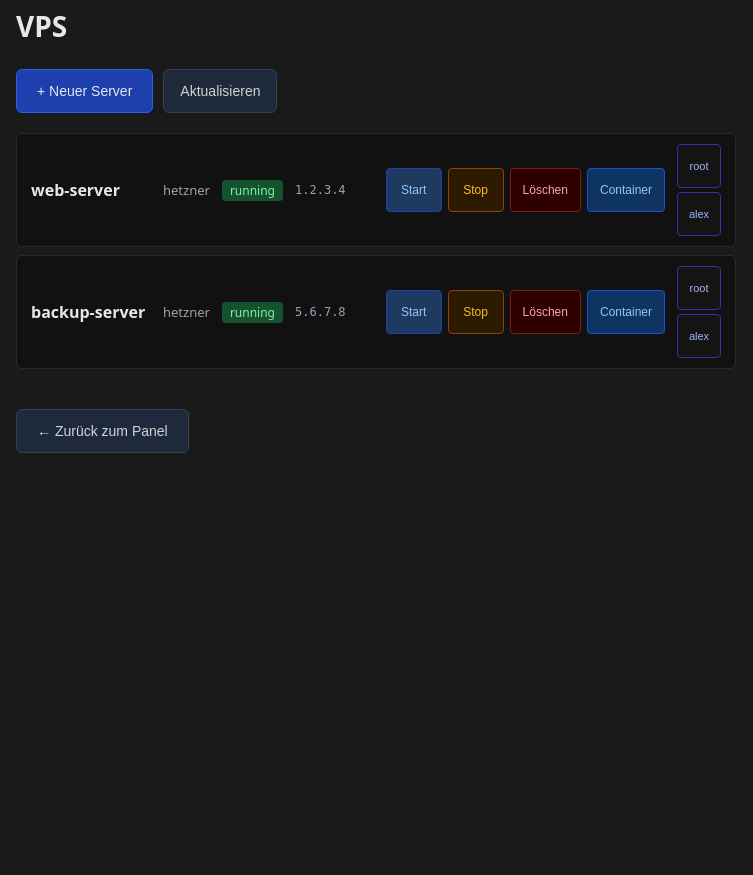
it: VpsSshTerminal — AC3: Status-Label, Schließen, mehrere unabhängige Terminals › zwei Karten dürfen gleichzeitig je ein eigenes SSH-Terminal offen haben (unabhängige WS)
This screenshot has width=753, height=875.
What coordinates should you click on to do the following:
click the button with aria-label "SSH-Terminal als root für web-server öffnen"
I would click on:
 (699, 166)
Its box is x1=677 y1=144 x2=721 y2=188.
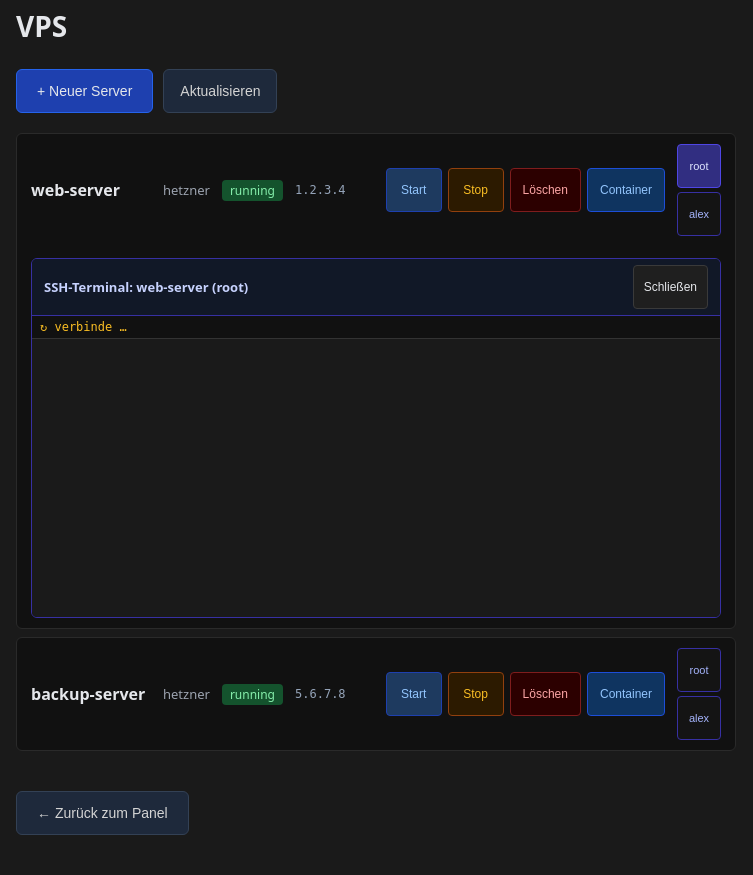
What coordinates should you click on to do the following:
click the button with aria-label "SSH-Terminal als alex für backup-server öffnen"
I would click on:
 (699, 718)
Its box is x1=677 y1=696 x2=721 y2=740.
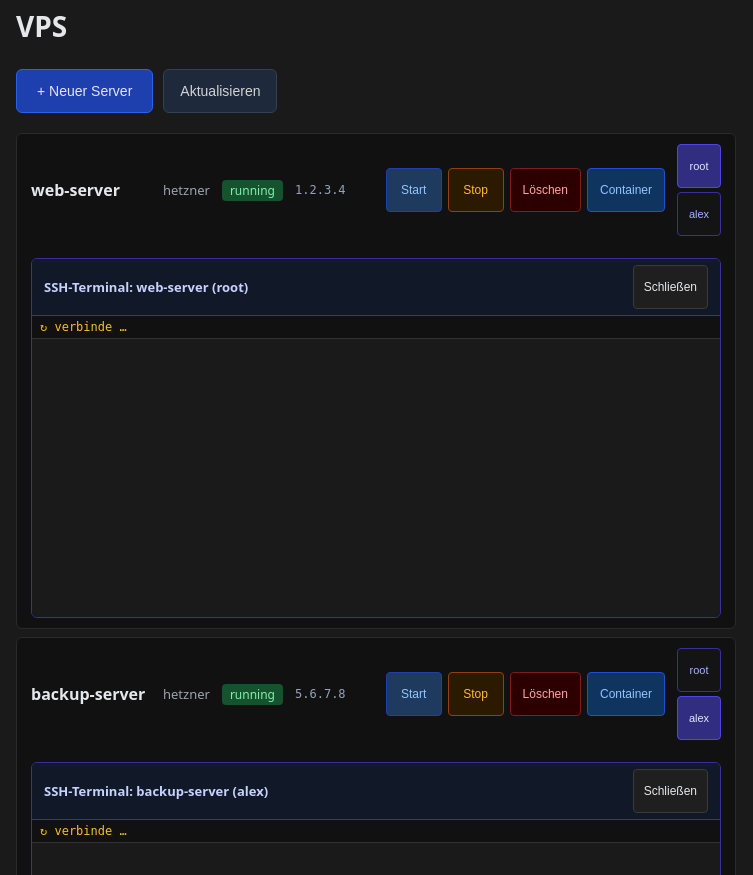
Check: the button with aria-label "SSH-Terminal (root) für web-server schließen" is shown, box x1=633 y1=265 x2=708 y2=309
Check: the button with aria-label "SSH-Terminal (alex) für backup-server schließen" is shown, box x1=633 y1=769 x2=708 y2=813
